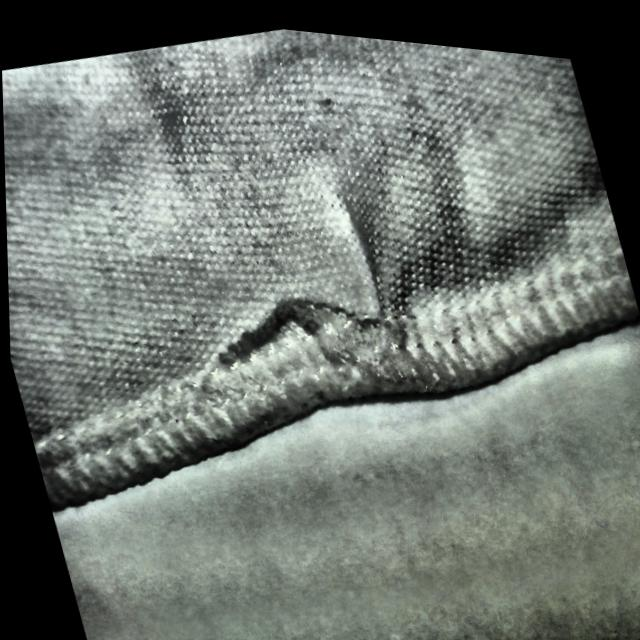seam: (180, 162, 451, 439)
